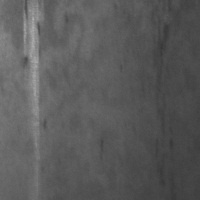scratches: (22, 1, 46, 151)
